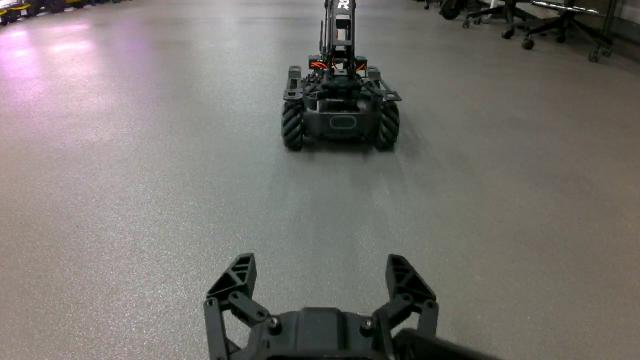robot: (280, 0, 402, 153)
